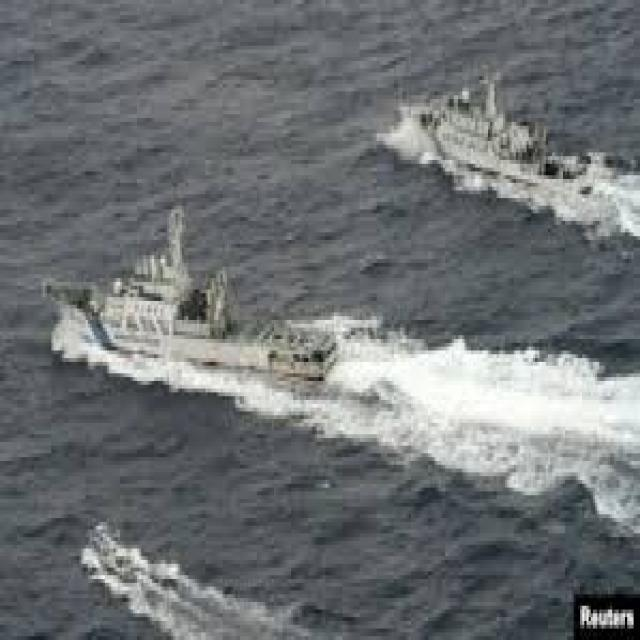Ship: (21, 211, 359, 432)
